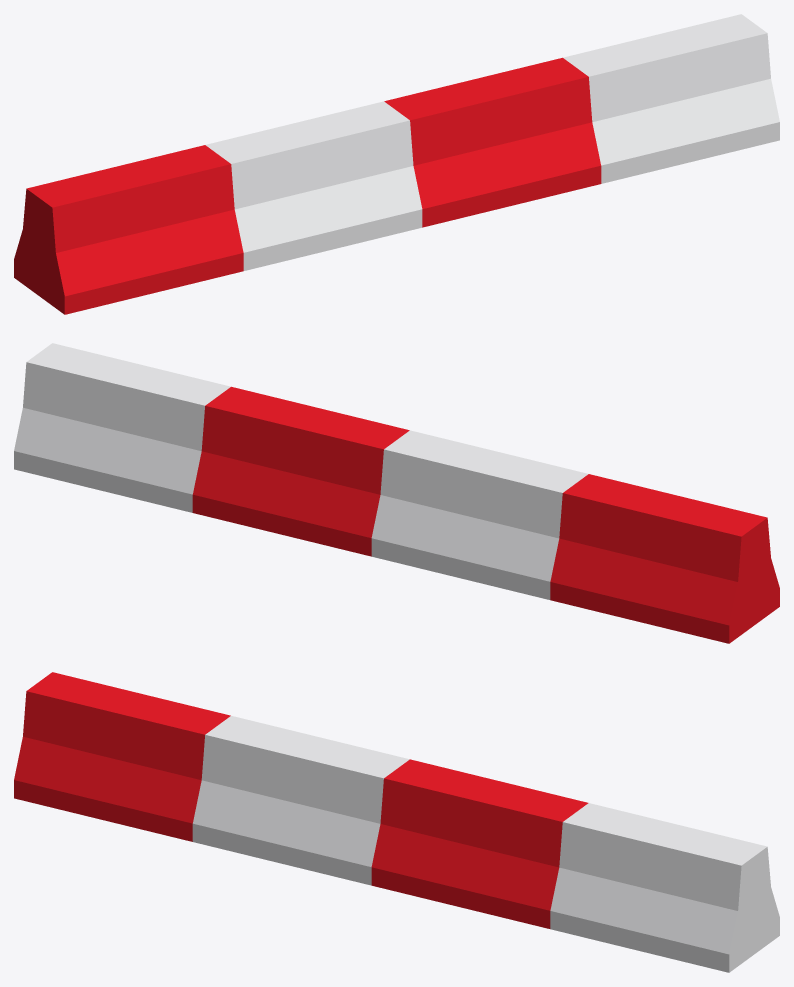
Rendered from Barrier.fbx.
3 renders of one model, top to bottom at view 1: azimuth 30°, elevation 25°; view 2: azimuth 150°, elevation 25°; view 3: azimuth 330°, elevation 25°, orthographic.
Parts seen in each view (by area): view 1: barrierWall; view 2: barrierWall; view 3: barrierWall.
Part boxes in pixels (x1,y1,x2,y2): barrierWall: [14, 14, 779, 314]; barrierWall: [14, 343, 779, 643]; barrierWall: [14, 672, 779, 972].
Size of the model in its own units: 1000 by 131 by 123.
